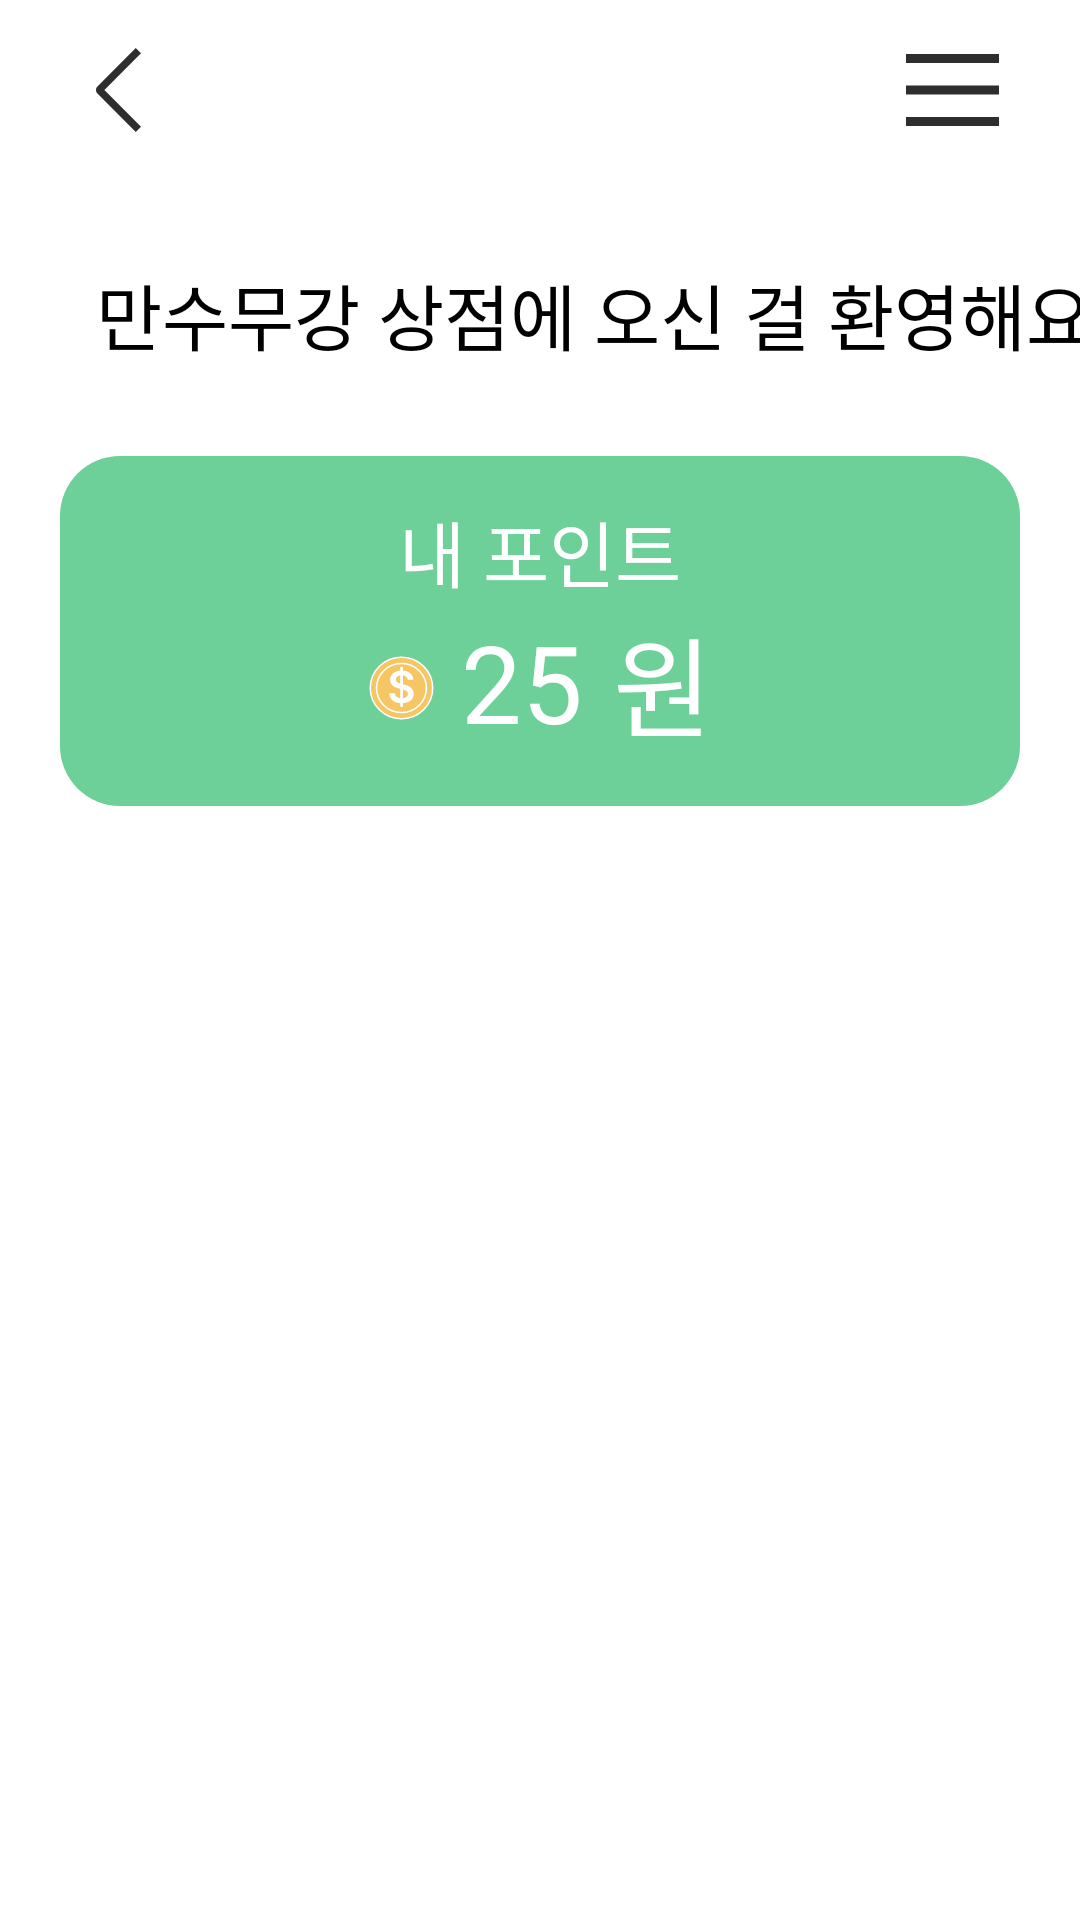

Screen size 1080x1920. Icon name, then its center in pixels as [x,y]:
coin: [401,688]
menu: [952,90]
page back: [118,90]
